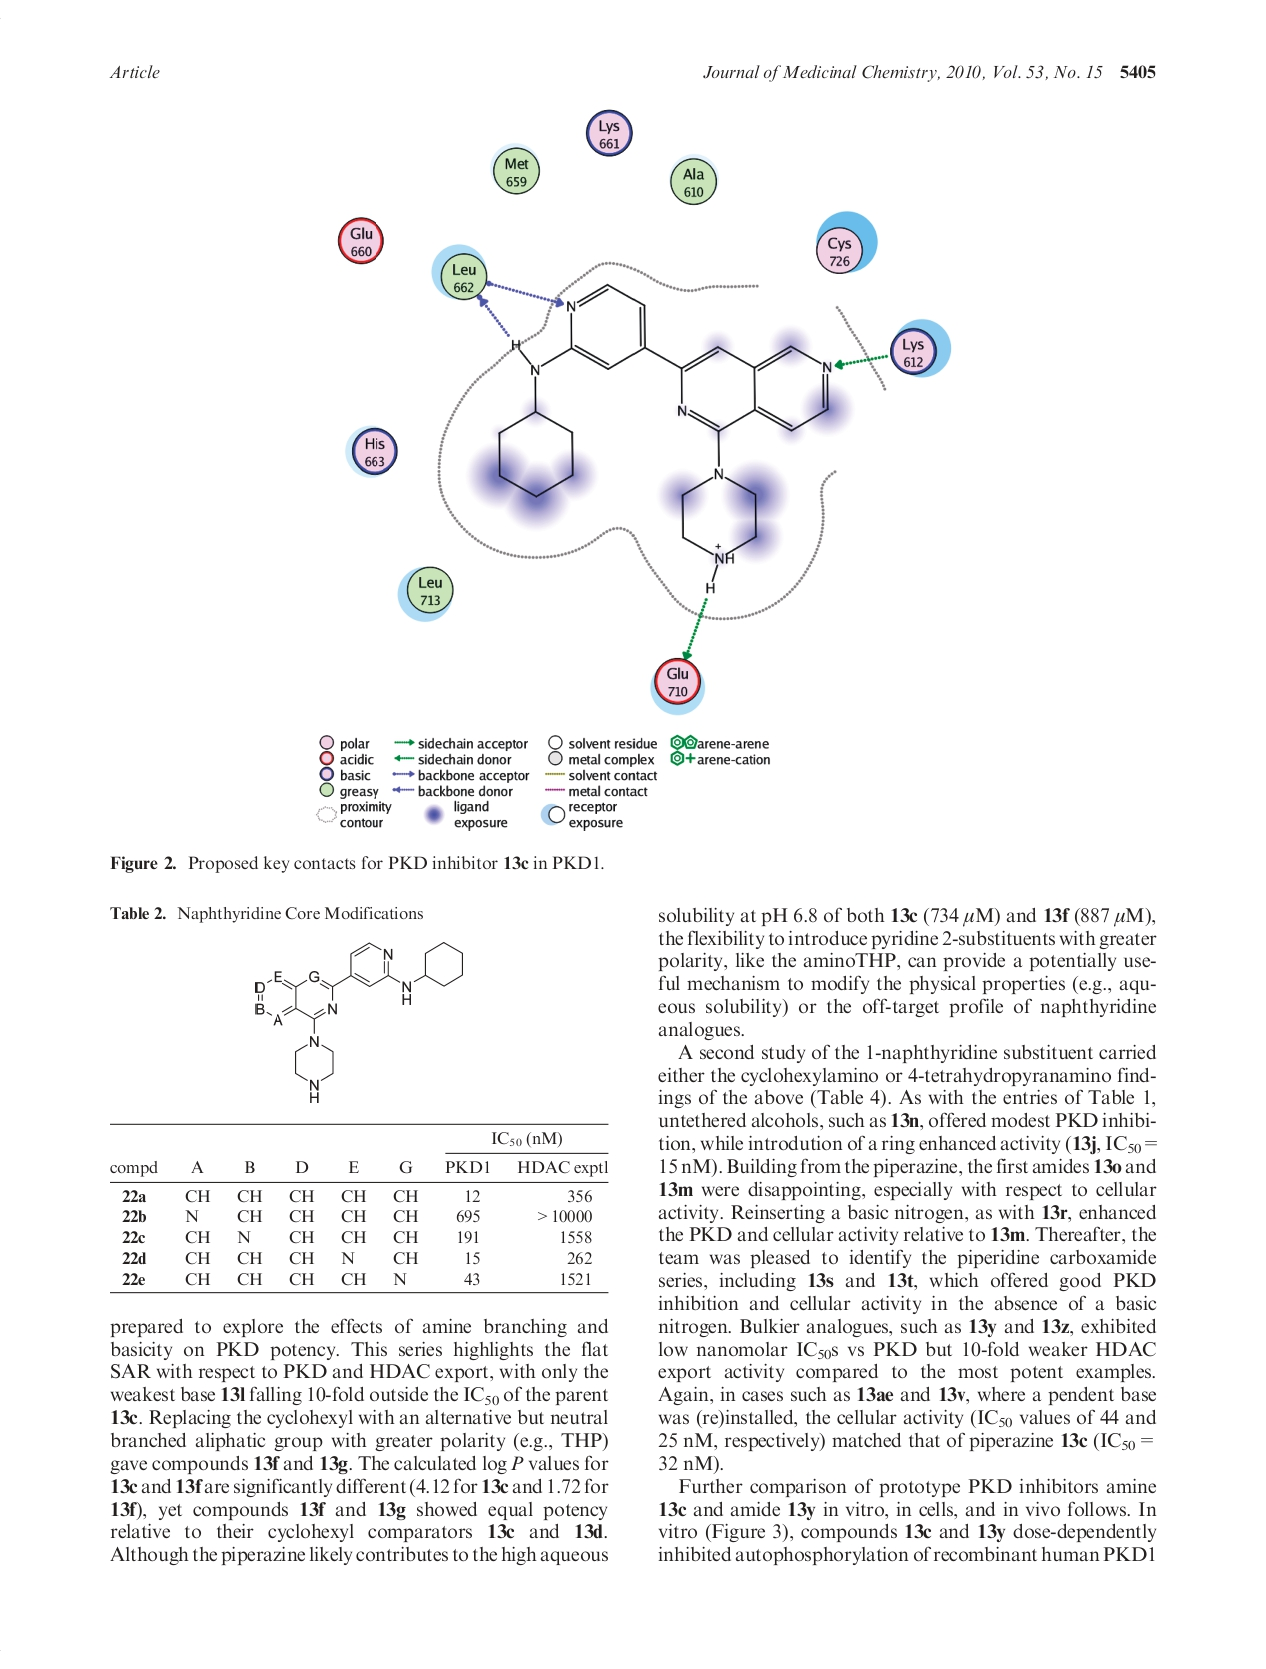exist_molecular: (495, 281, 836, 594), (253, 938, 469, 1104)
